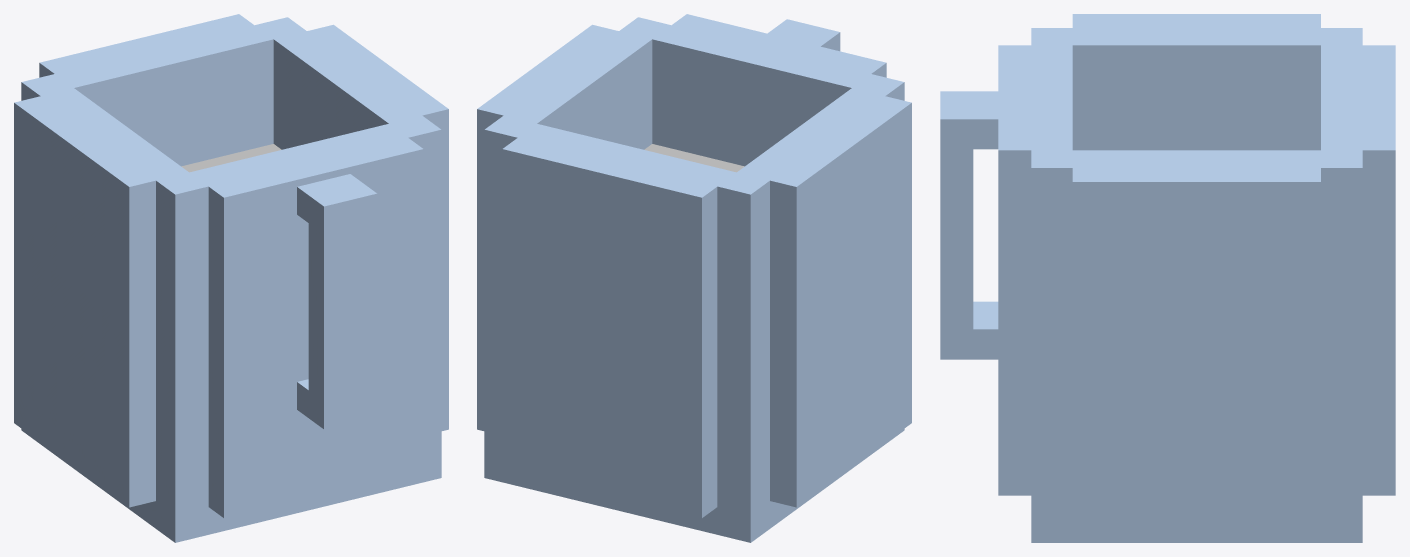
The model's file is mug_02.obj.
3 renders of one model, left to right at view 1: azimuth 30°, elevation 25°; view 2: azimuth 150°, elevation 25°; view 3: azimuth 270°, elevation 25°, orthographic. The views are drawn at different scales.
Parts seen in each view (by area): view 1: cube; view 2: cube; view 3: cube.
Boxes of the visible parts, box(x1,y1,x2,y2) form: cube: box(14, 14, 448, 542); cube: box(477, 14, 911, 542); cube: box(940, 14, 1395, 542).
Size of the model in its own units: 0.6 by 0.625 by 0.6875.
